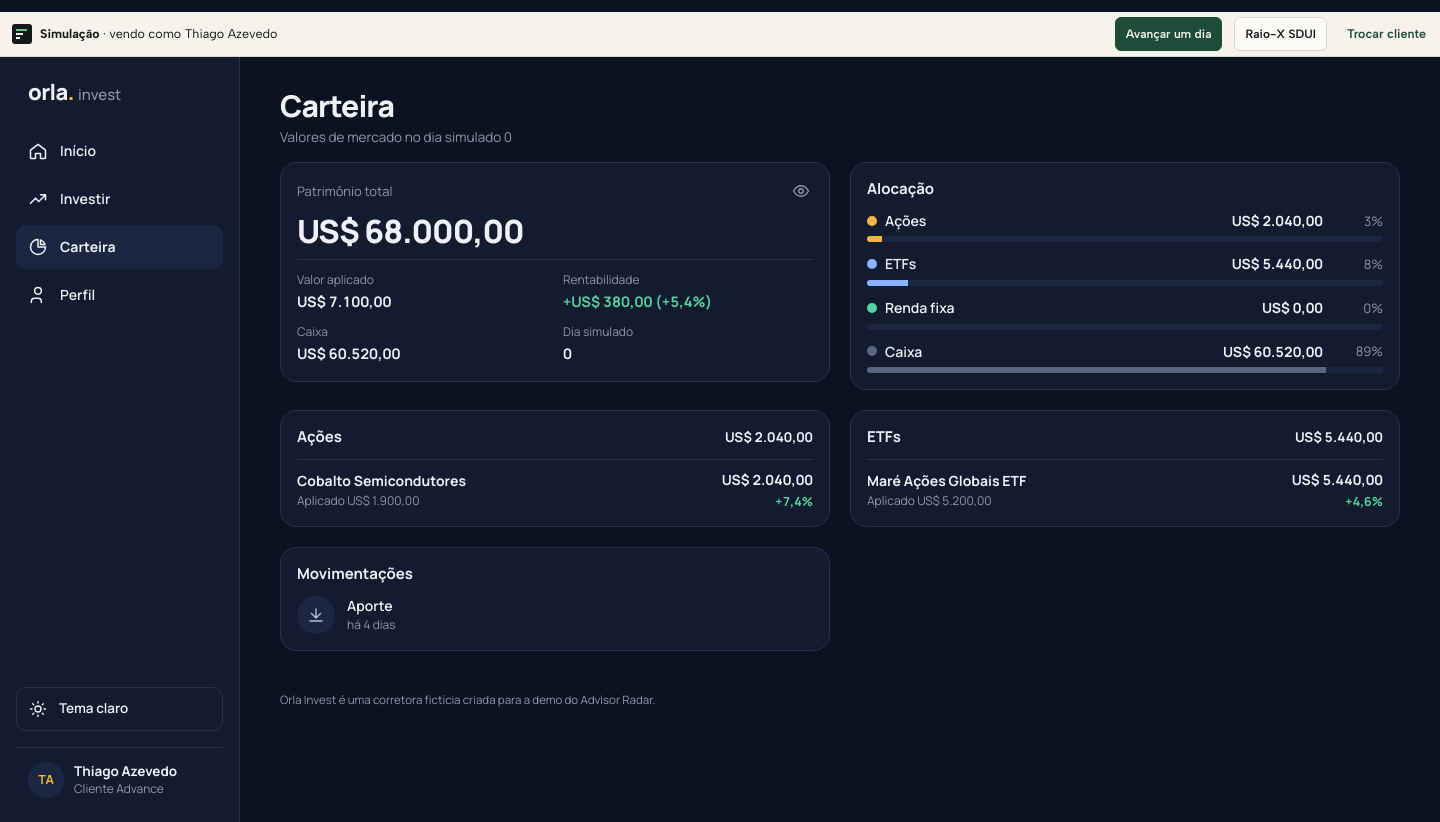
it: Carteira route › masks every money value with the eye toggle and shows them again
Expected: the text "US$ 68.000,00" is shown, [297,209,524,253]
Step 1. Click the button named "Esconder valores" → click(801, 191), box [779,169,823,213]
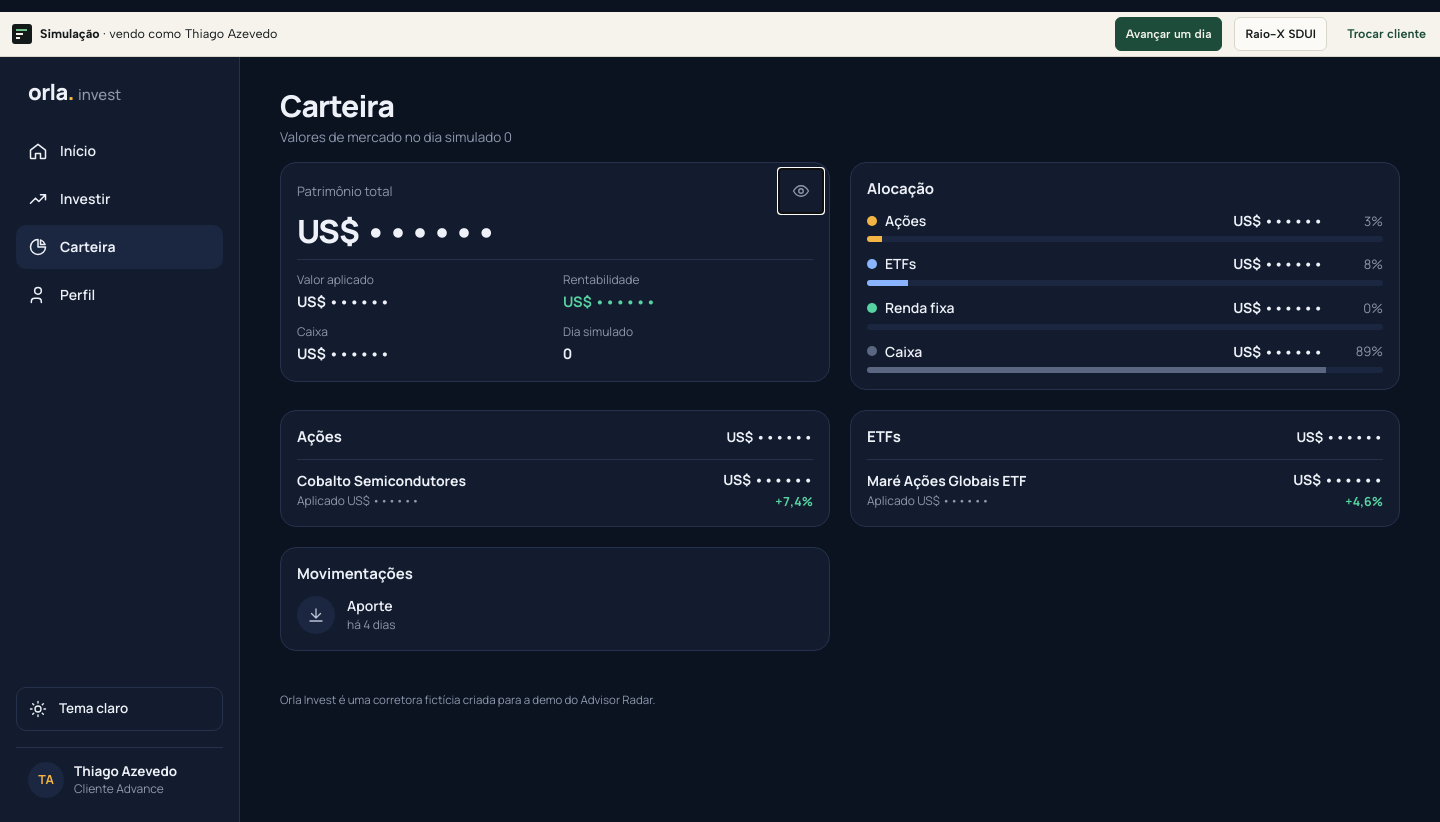
Expected: the text "+7,4%" is shown, [775,493,813,510]
Result: the text "US$ 68.000,00" is gone
Step 2. Click the button named "Mostrar valores" → click(801, 191), box [779,169,823,213]
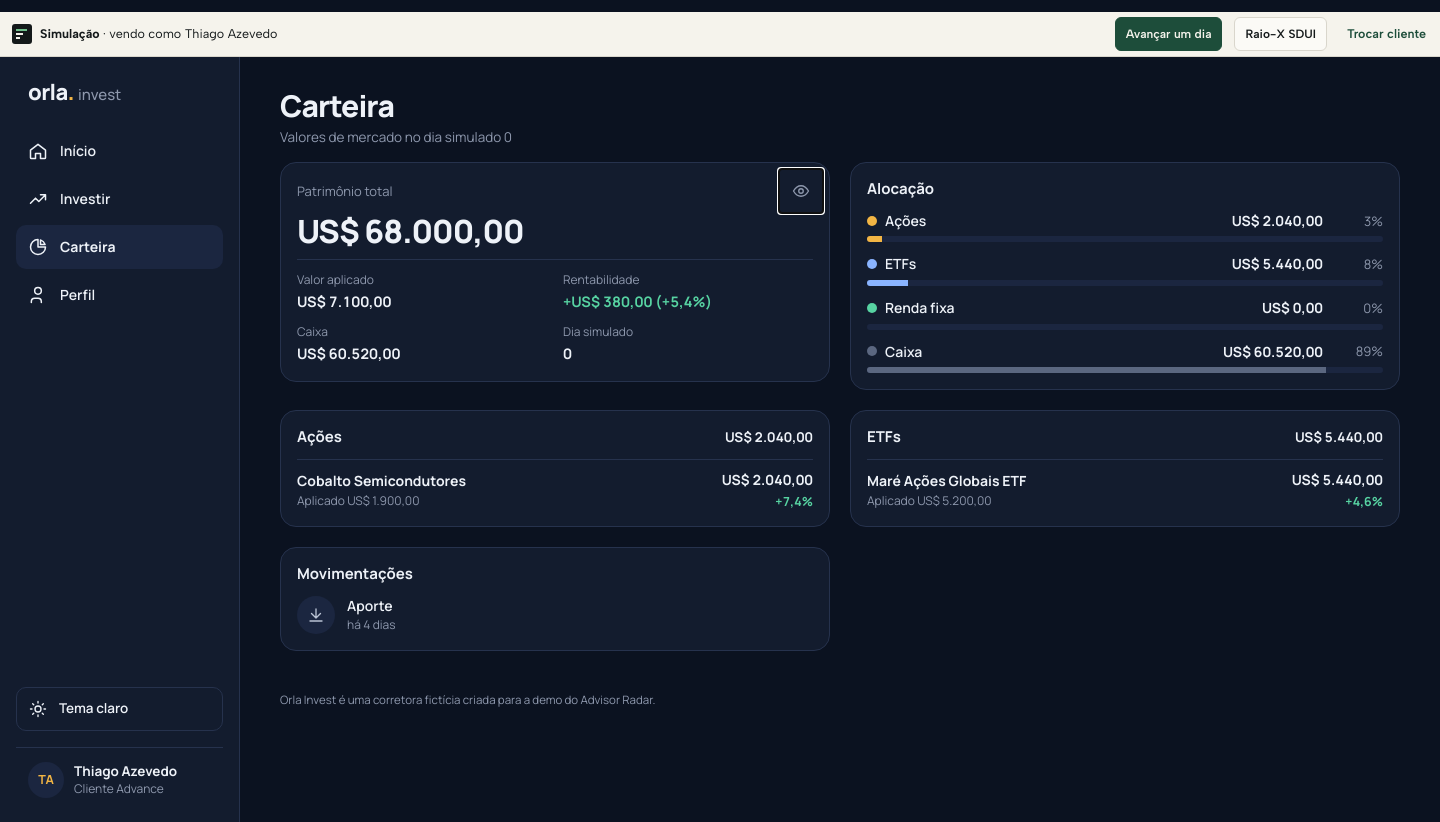
Result: the text "US$ 68.000,00" is shown at [297,209,524,253]
